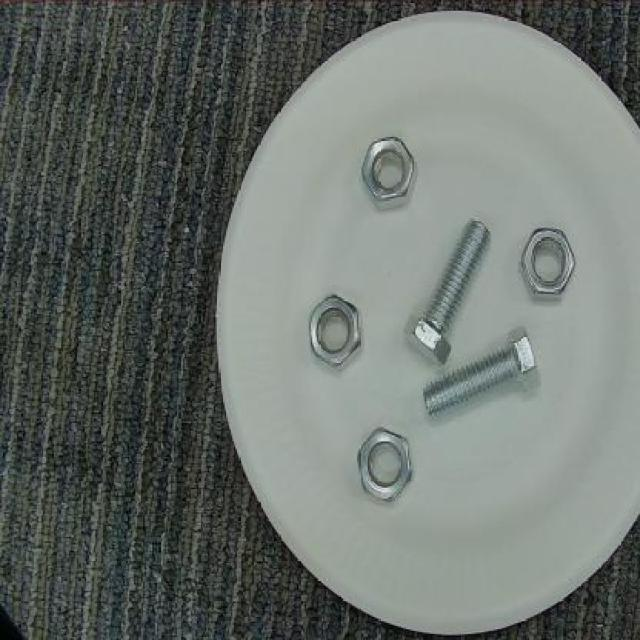Bolt: (403, 216, 499, 366), (419, 323, 545, 425)
Nut: (520, 222, 584, 303), (358, 134, 424, 211), (350, 424, 414, 502), (305, 289, 367, 368)
